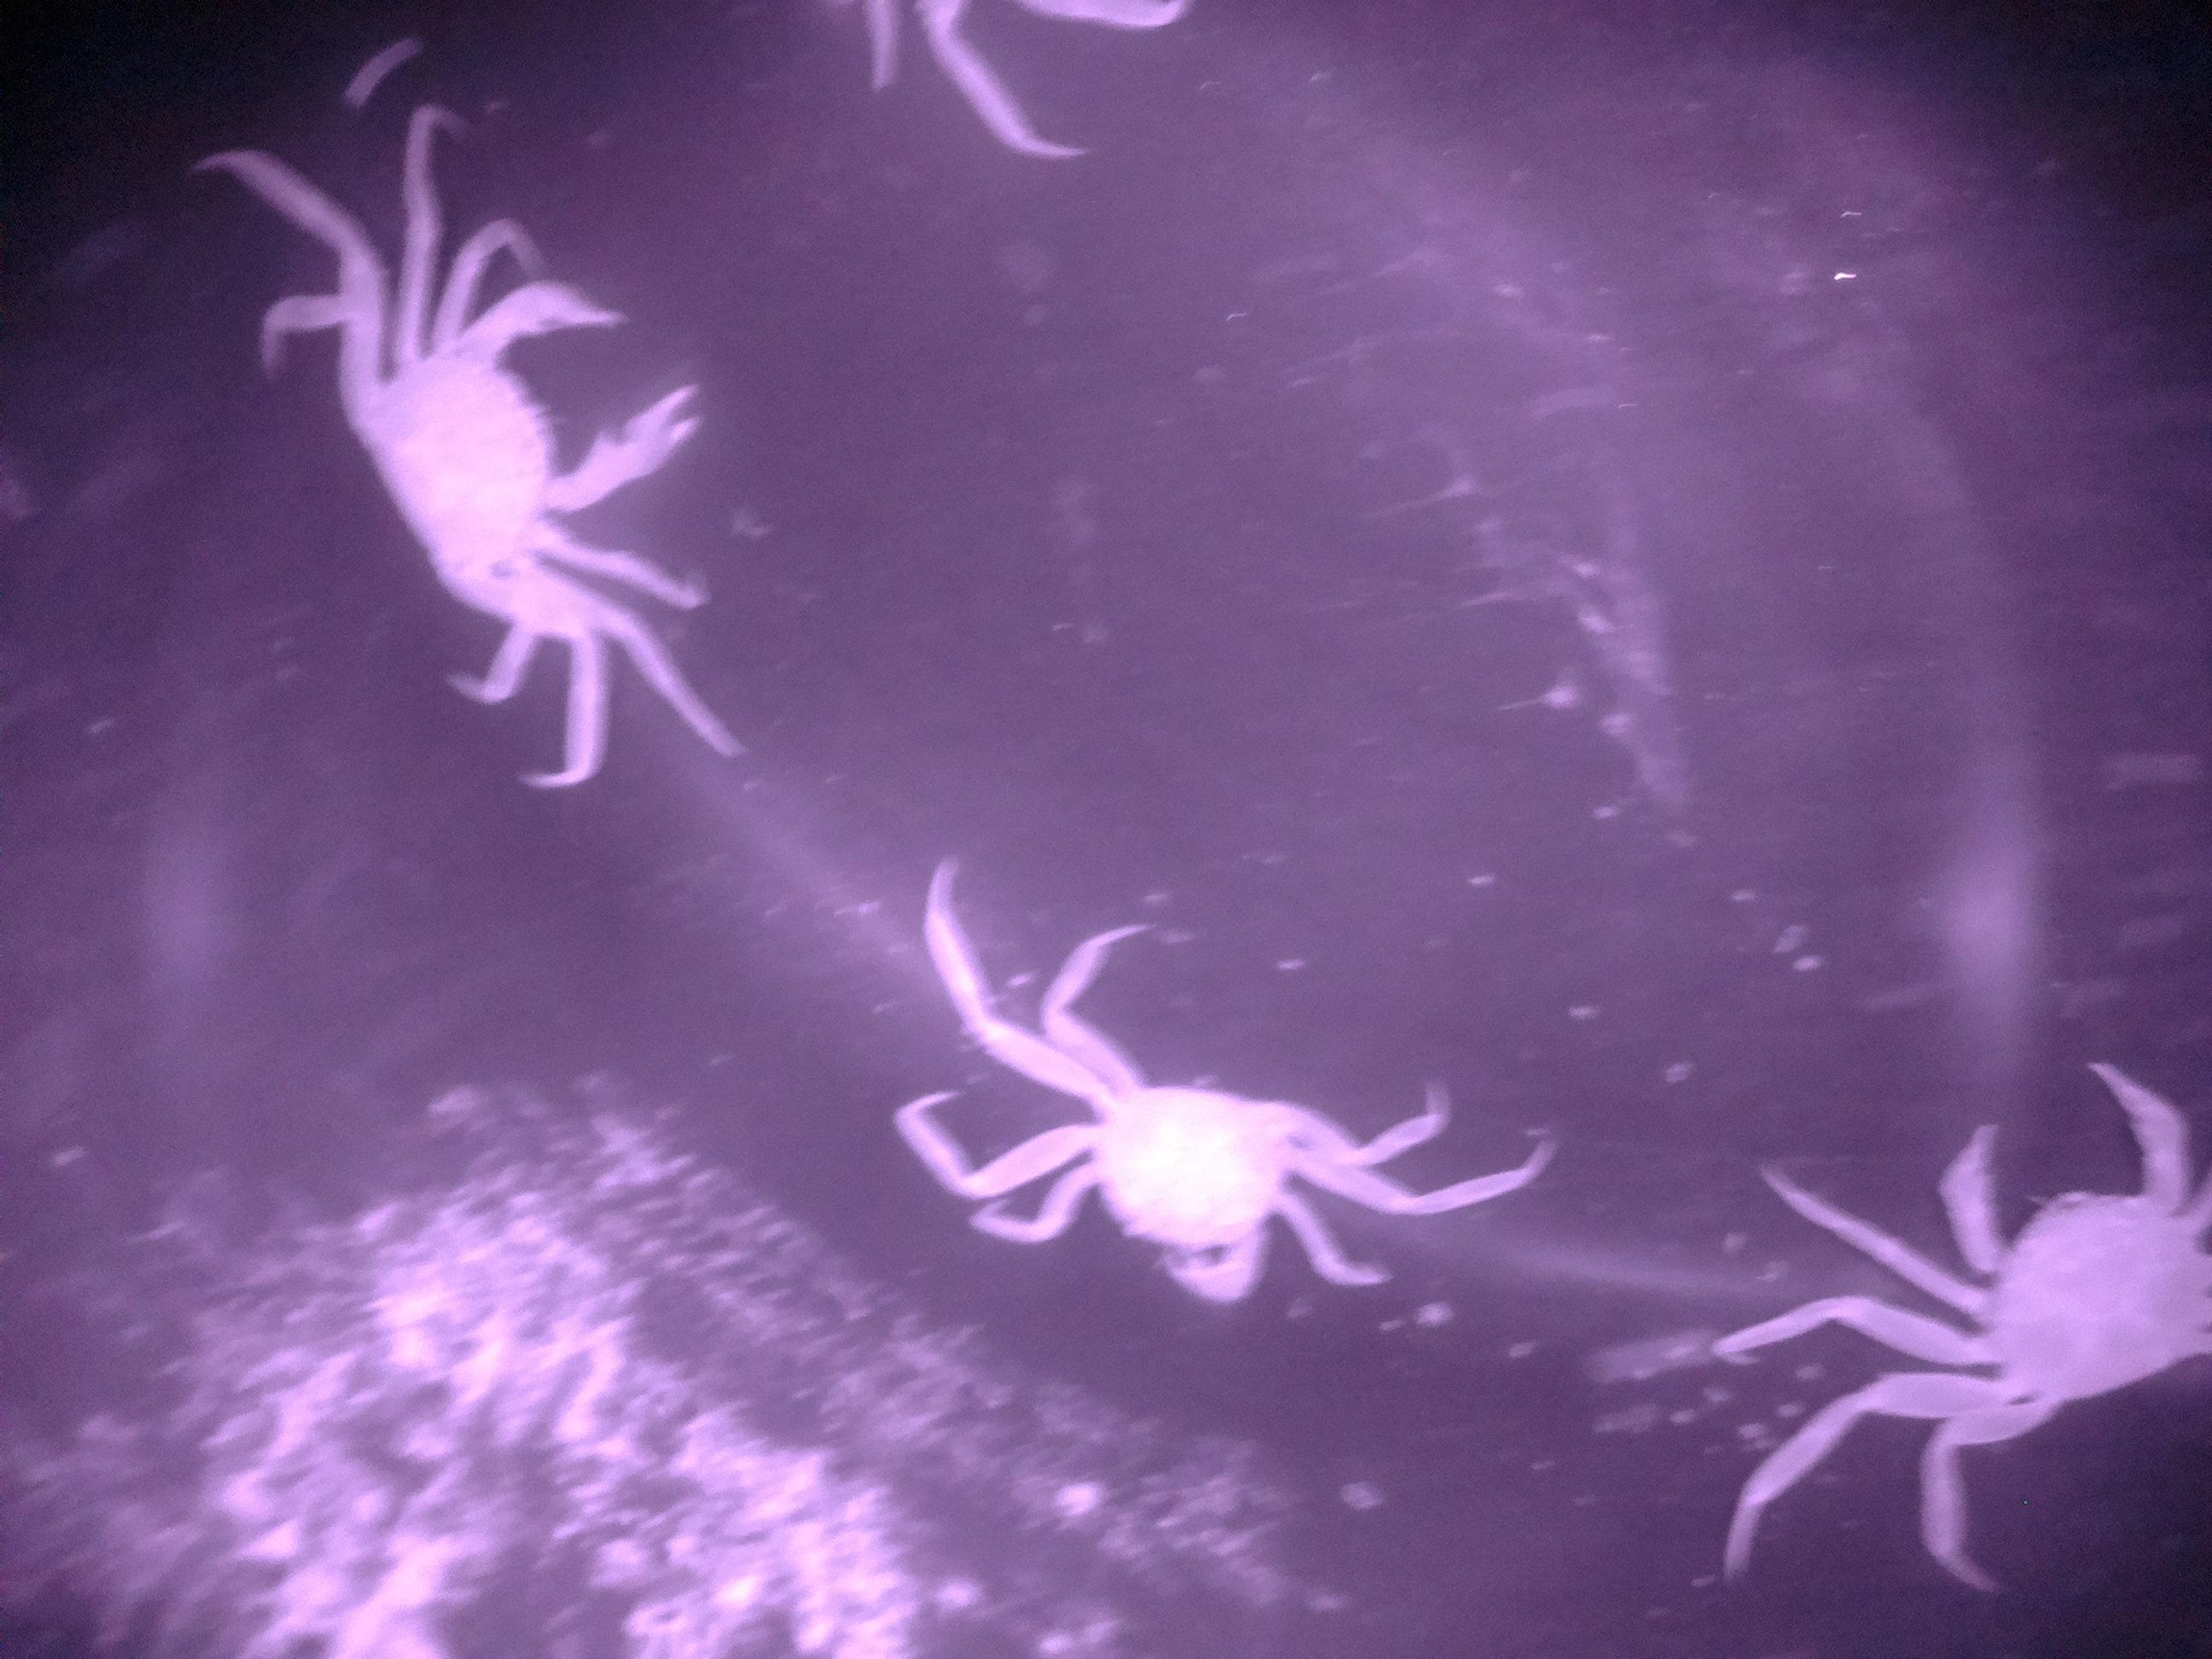Crab: (247, 244, 756, 673), (1890, 1039, 2212, 1493), (970, 1014, 1355, 1349)
